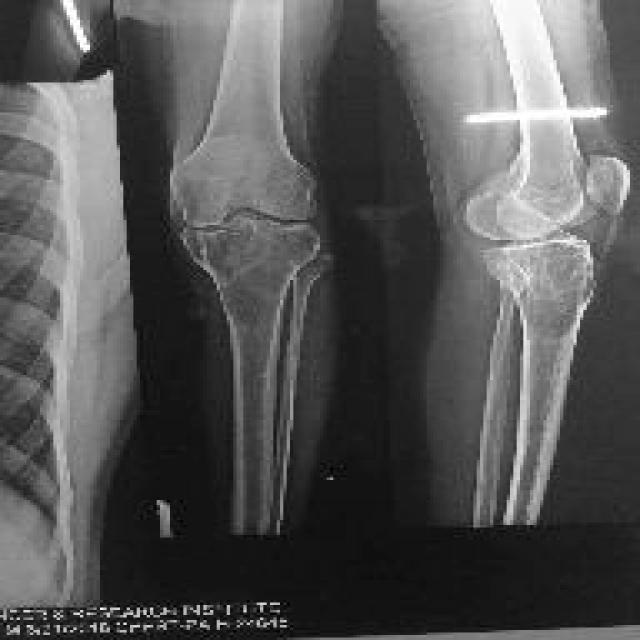bone-cancer: (193, 225, 311, 327), (504, 243, 593, 343)
